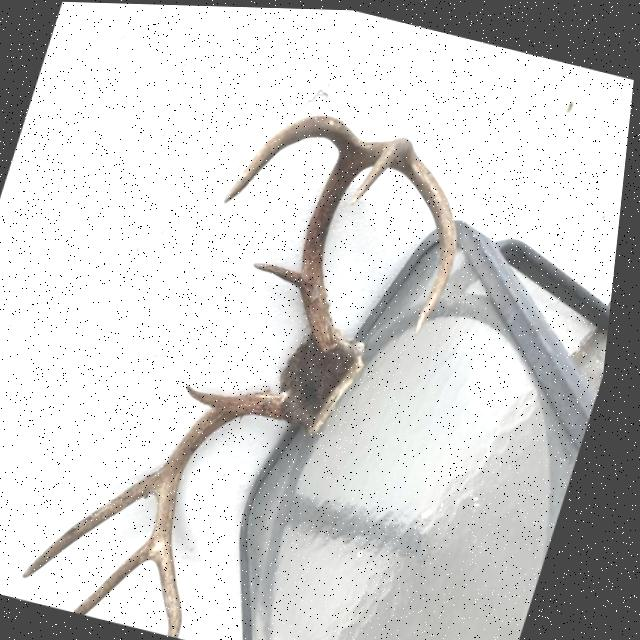L-F: (163, 390, 293, 636)
L-G1: (192, 384, 252, 409)
L-G2: (32, 460, 176, 577)
L-G3: (85, 535, 164, 614)
R-G1: (258, 261, 309, 288)
R-G2: (227, 112, 367, 201)
